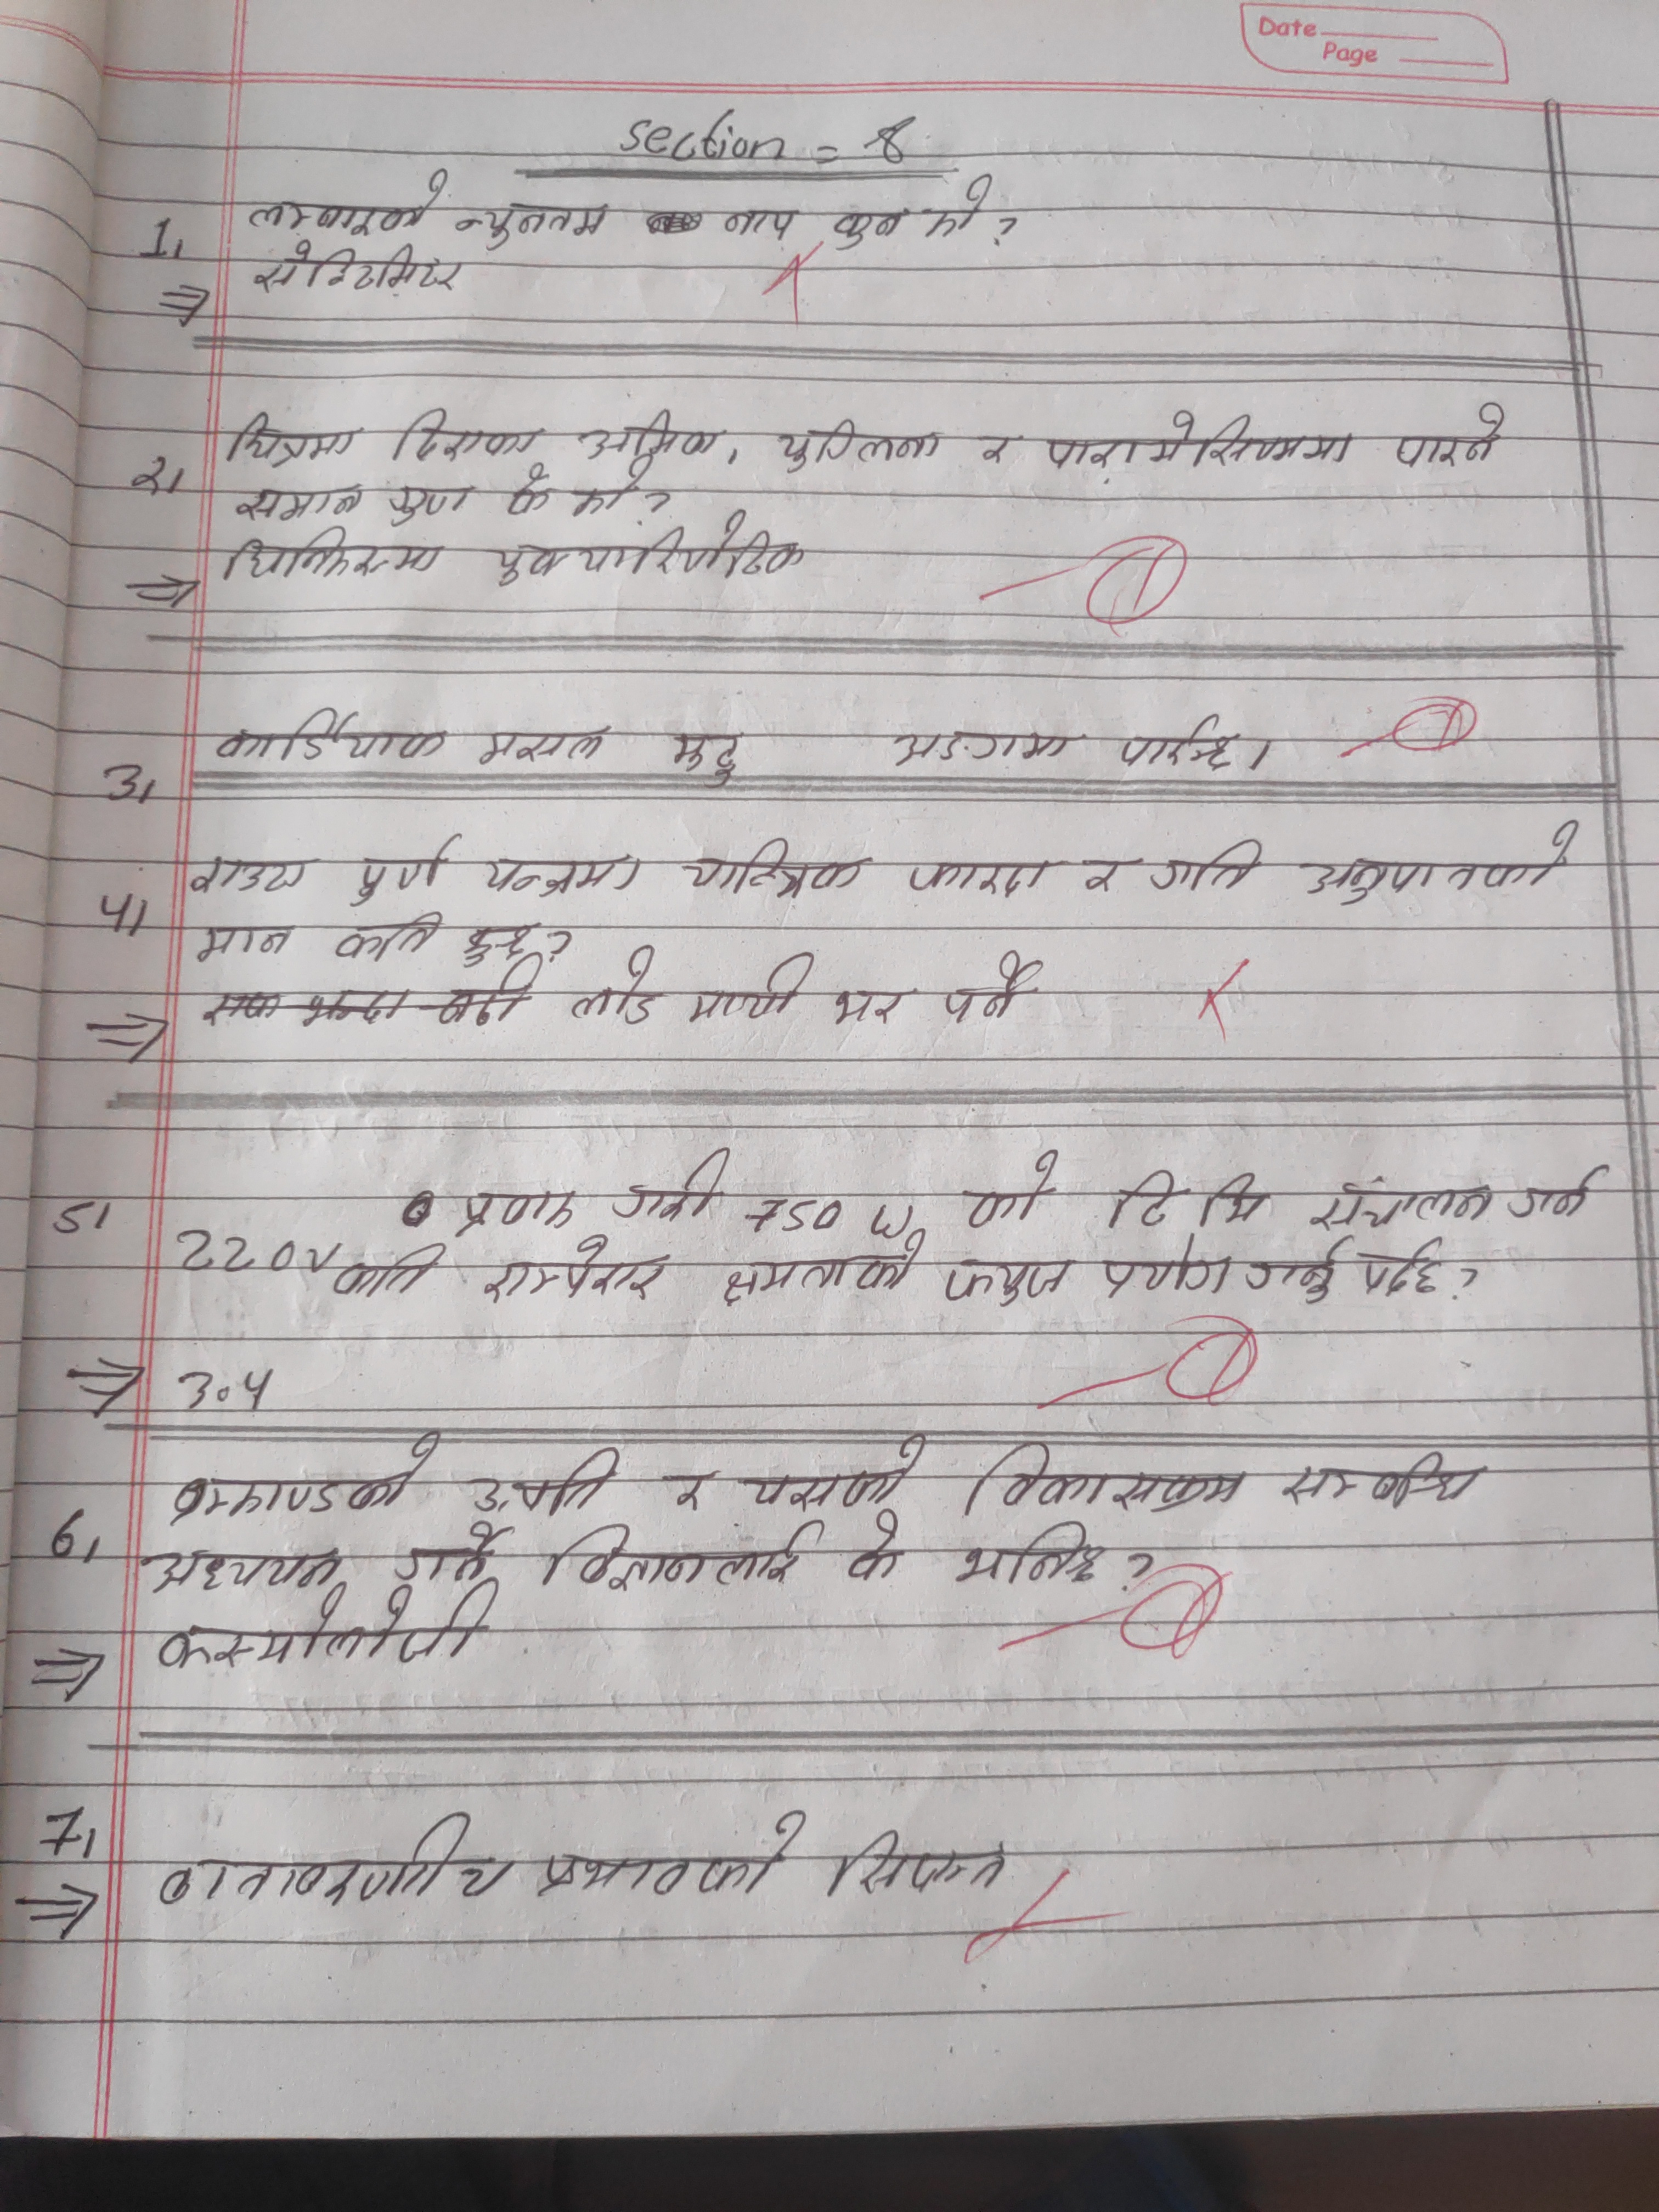text: (157, 1578, 491, 1686), (146, 1810, 514, 1904), (490, 510, 805, 590), (1298, 817, 1579, 906), (962, 1437, 1262, 1519), (535, 1810, 810, 1897), (160, 1430, 429, 1519), (1049, 406, 1366, 477), (535, 1521, 824, 1594), (709, 1228, 924, 1324), (207, 702, 455, 772), (246, 165, 450, 242), (678, 831, 882, 907), (1279, 1442, 1497, 1514), (812, 1827, 1018, 1902), (732, 1437, 927, 1515), (1241, 1231, 1453, 1301), (476, 1238, 676, 1308), (141, 1533, 352, 1599), (218, 531, 450, 590), (256, 242, 469, 305), (1094, 1165, 1279, 1237), (779, 409, 946, 479), (875, 721, 1087, 775), (389, 404, 552, 474), (950, 1519, 1115, 1587), (464, 1446, 626, 1514), (1309, 1176, 1504, 1231), (606, 1143, 732, 1226), (1098, 1230, 1236, 1305), (903, 841, 1054, 909), (685, 951, 821, 1026), (953, 1146, 1068, 1233), (1150, 829, 1274, 907), (1387, 397, 1507, 477), (448, 197, 620, 251), (936, 949, 1053, 1028), (476, 852, 652, 902), (343, 833, 462, 906), (1110, 712, 1241, 779), (941, 1247, 1073, 1312), (382, 1515, 514, 1580), (223, 409, 366, 469), (577, 406, 720, 465), (331, 1237, 450, 1308), (566, 942, 664, 1028), (451, 1176, 579, 1237), (1507, 1158, 1614, 1230), (328, 904, 448, 965), (188, 848, 319, 904), (671, 716, 765, 787), (192, 909, 303, 968), (479, 716, 606, 765), (237, 479, 371, 524), (842, 1512, 913, 1592), (563, 462, 655, 523), (380, 475, 483, 528), (922, 167, 992, 244), (826, 982, 918, 1038), (462, 916, 549, 972), (830, 202, 908, 256), (1073, 846, 1138, 911), (721, 200, 809, 246), (660, 1460, 721, 1519), (498, 474, 561, 524), (971, 432, 1030, 477)
